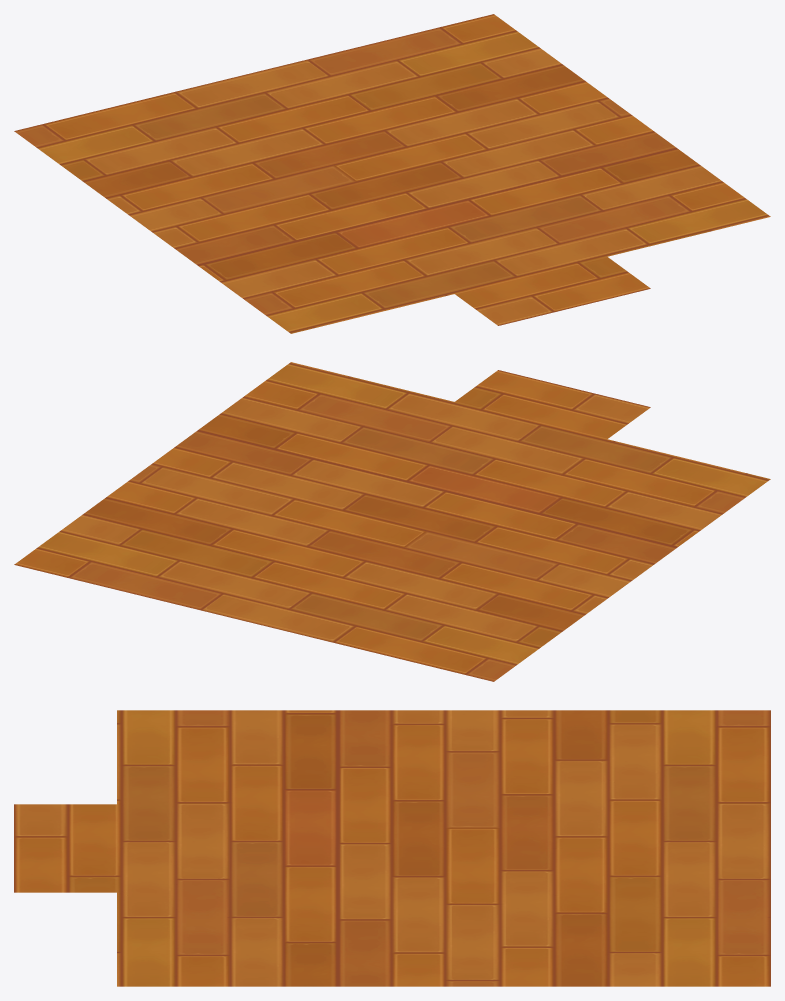
The model's file is Floor01_a01.FBX.
3 views of the same model, one above another, from view 1: azimuth 30°, elevation 25°; view 2: azimuth 150°, elevation 25°; view 3: azimuth 270°, elevation 25° (orthographic). The views are drawn at different scales.
Visible parts, largest first — view 1: Floor01_a01; view 2: Floor01_a01; view 3: Floor01_a01.
Part boxes in pixels (box(x1,y1,x2,y2)): Floor01_a01: box(14, 14, 770, 333); Floor01_a01: box(14, 362, 770, 681); Floor01_a01: box(14, 710, 770, 986).
Size of the model in its own units: 600 by 0.000218 by 695.
1 material, 1 textured.
